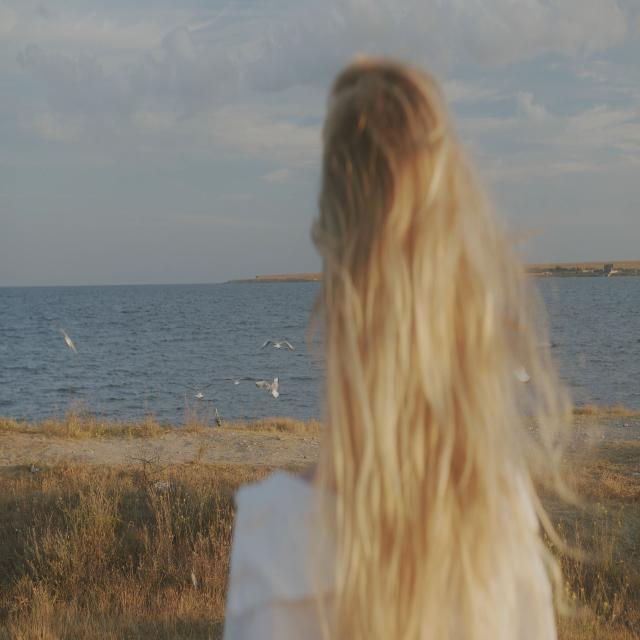bird: (258, 317, 304, 357), (246, 367, 284, 400), (54, 322, 80, 356)
